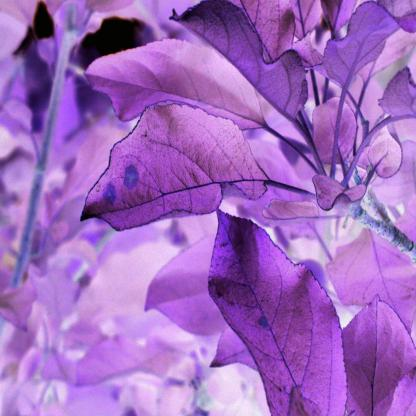Apple Scab Leaf: (76, 105, 269, 234)
